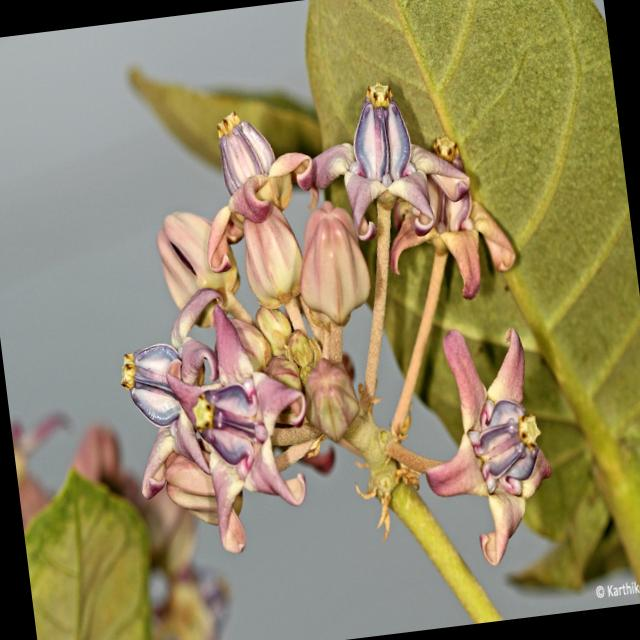Poisonous-Calatropis: (61, 63, 613, 609), (295, 0, 640, 548)
